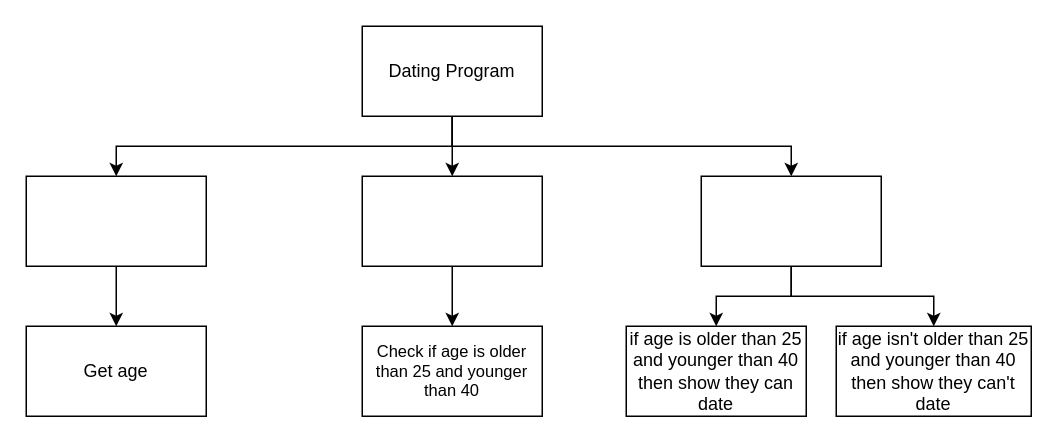
Some shapes in this 1058 by 443 pixel diagram are drawn without their labels. Each missing label, with the centre of its shape:
Input: the point at 115,220
Output: the point at 790,220
Process: the point at 451,220
